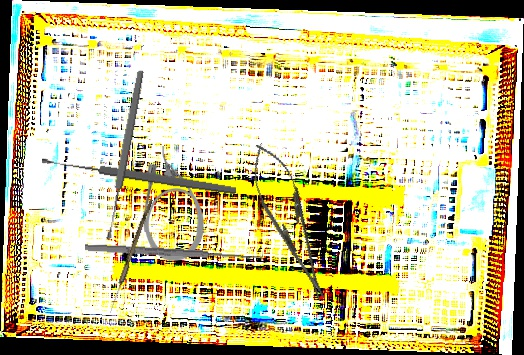Cannula: (142, 145, 205, 262)
Hook Surgical: (84, 236, 264, 263)
Needle Holder: (239, 137, 340, 307)
Surgical Spoon: (41, 154, 237, 197), (103, 69, 146, 241), (107, 197, 154, 315)
